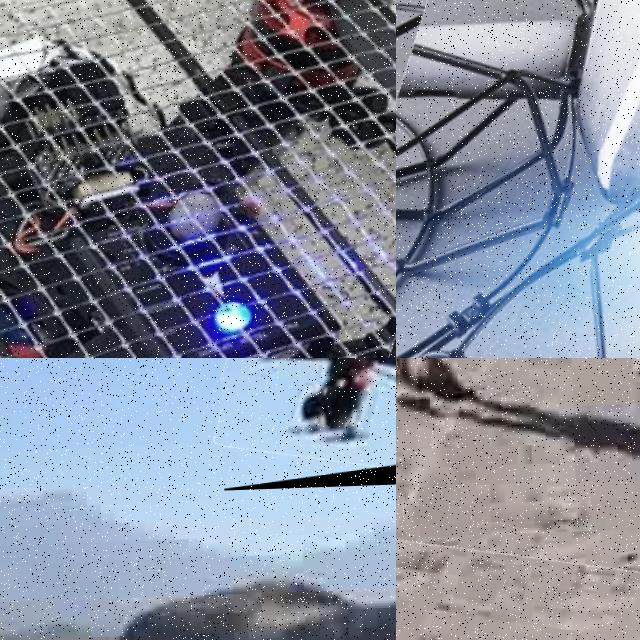drone: (0, 0, 396, 358), (396, 0, 640, 358), (396, 527, 640, 640), (217, 358, 396, 490)
